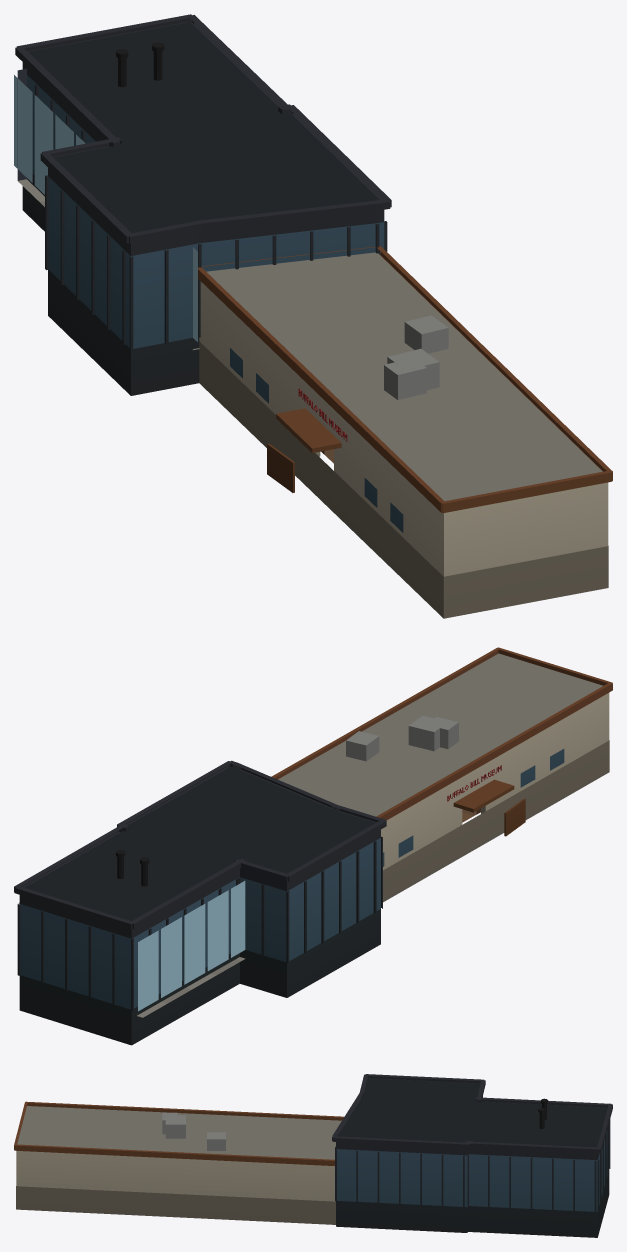
File: buffalobill.glb
The picture shows the model from 3 angles, top to bottom: view 1: azimuth 30°, elevation 25°; view 2: azimuth 150°, elevation 25°; view 3: azimuth 270°, elevation 25°; orthographic projection. The views are drawn at different scales.
Parts seen in each view (by area): view 1: buffalobill_lod0, buffalobill_int; view 2: buffalobill_lod0, buffalobill_int; view 3: buffalobill_lod0.
Part boxes in pixels (left/top/right/bottom): buffalobill_lod0: left=15, top=14, right=612, bottom=618; buffalobill_int: left=14, top=42, right=333, bottom=463; buffalobill_lod0: left=14, top=647, right=612, bottom=1045; buffalobill_int: left=116, top=808, right=480, bottom=1017; buffalobill_lod0: left=14, top=1074, right=612, bottom=1237.
Size of what is drawn, in the model's own units: 25.68 by 16.4 by 83.75.
